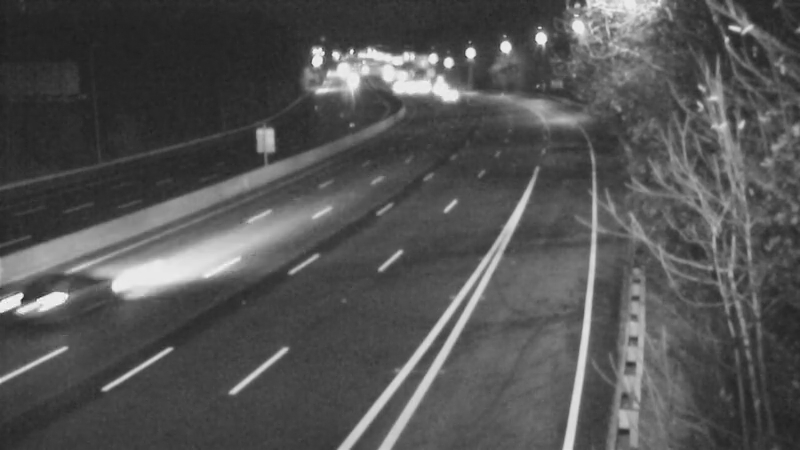vehicle: (14, 259, 94, 339), (413, 63, 463, 113), (423, 69, 473, 119)
